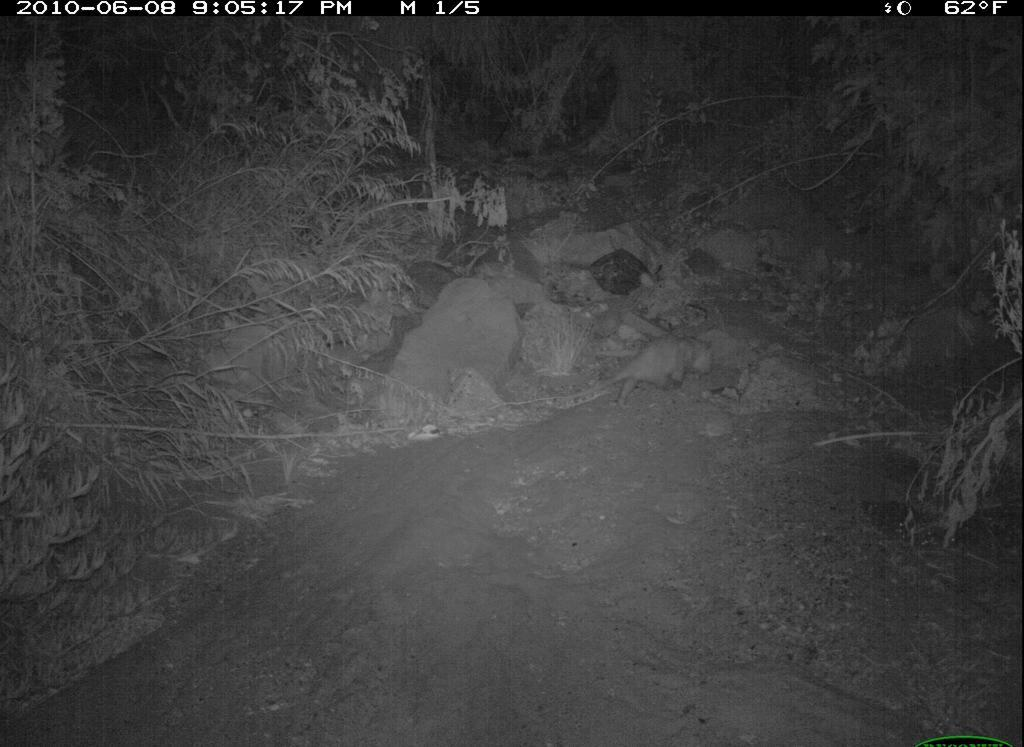opossum: (555, 309, 724, 437)
